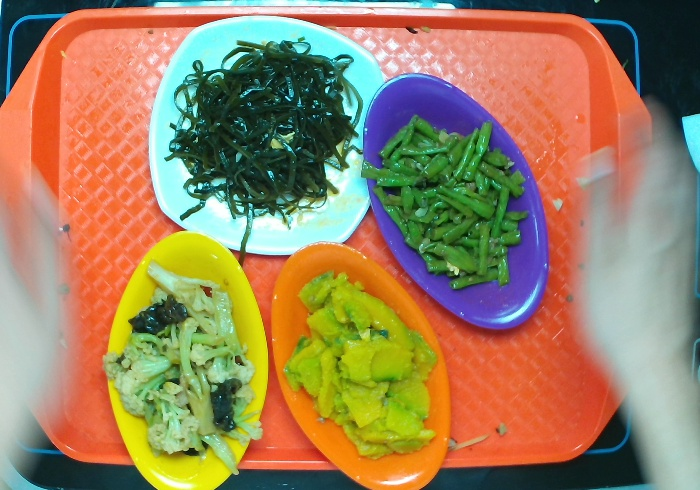RJxy-Fen_Hong_Tuo_Yuan: (357, 66, 555, 337)
RJxy-Huang_Se_Tuo_Yuan: (105, 226, 274, 490)
RJxy-Ju_Huang_Tuo_Yuan: (266, 239, 461, 490)
RJxy-Si_Fang_Die: (143, 9, 398, 260)
